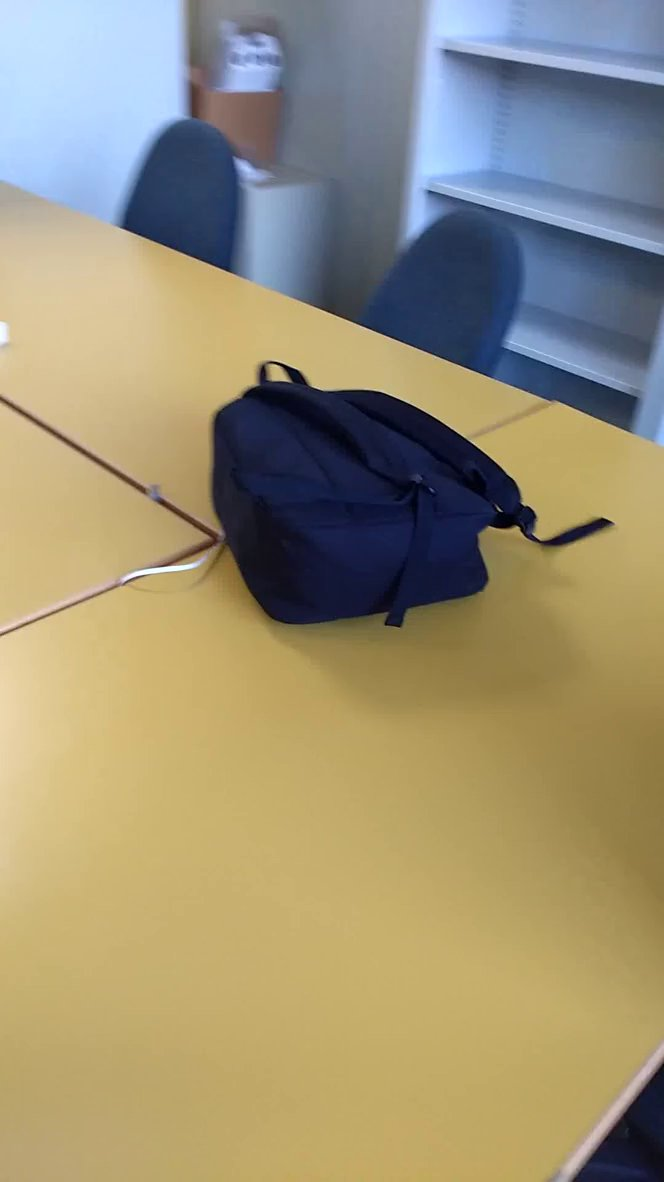bag: (199, 346, 625, 637)
chair: (341, 195, 534, 398), (105, 114, 249, 285)
